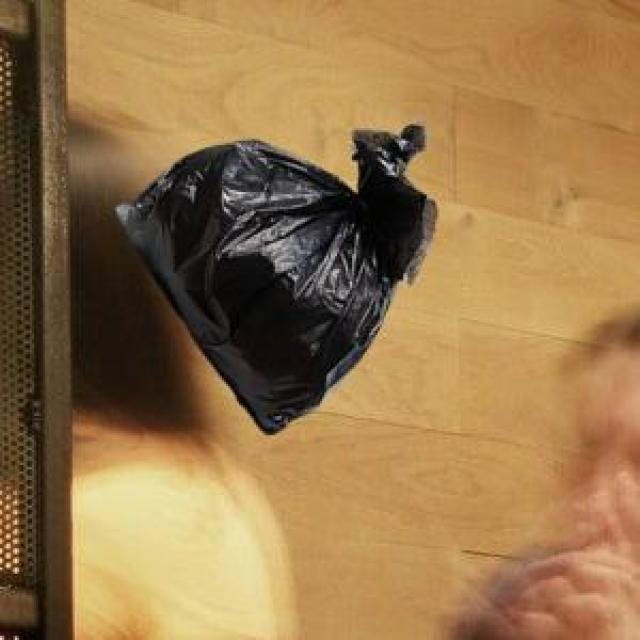waste: (133, 132, 417, 436)
